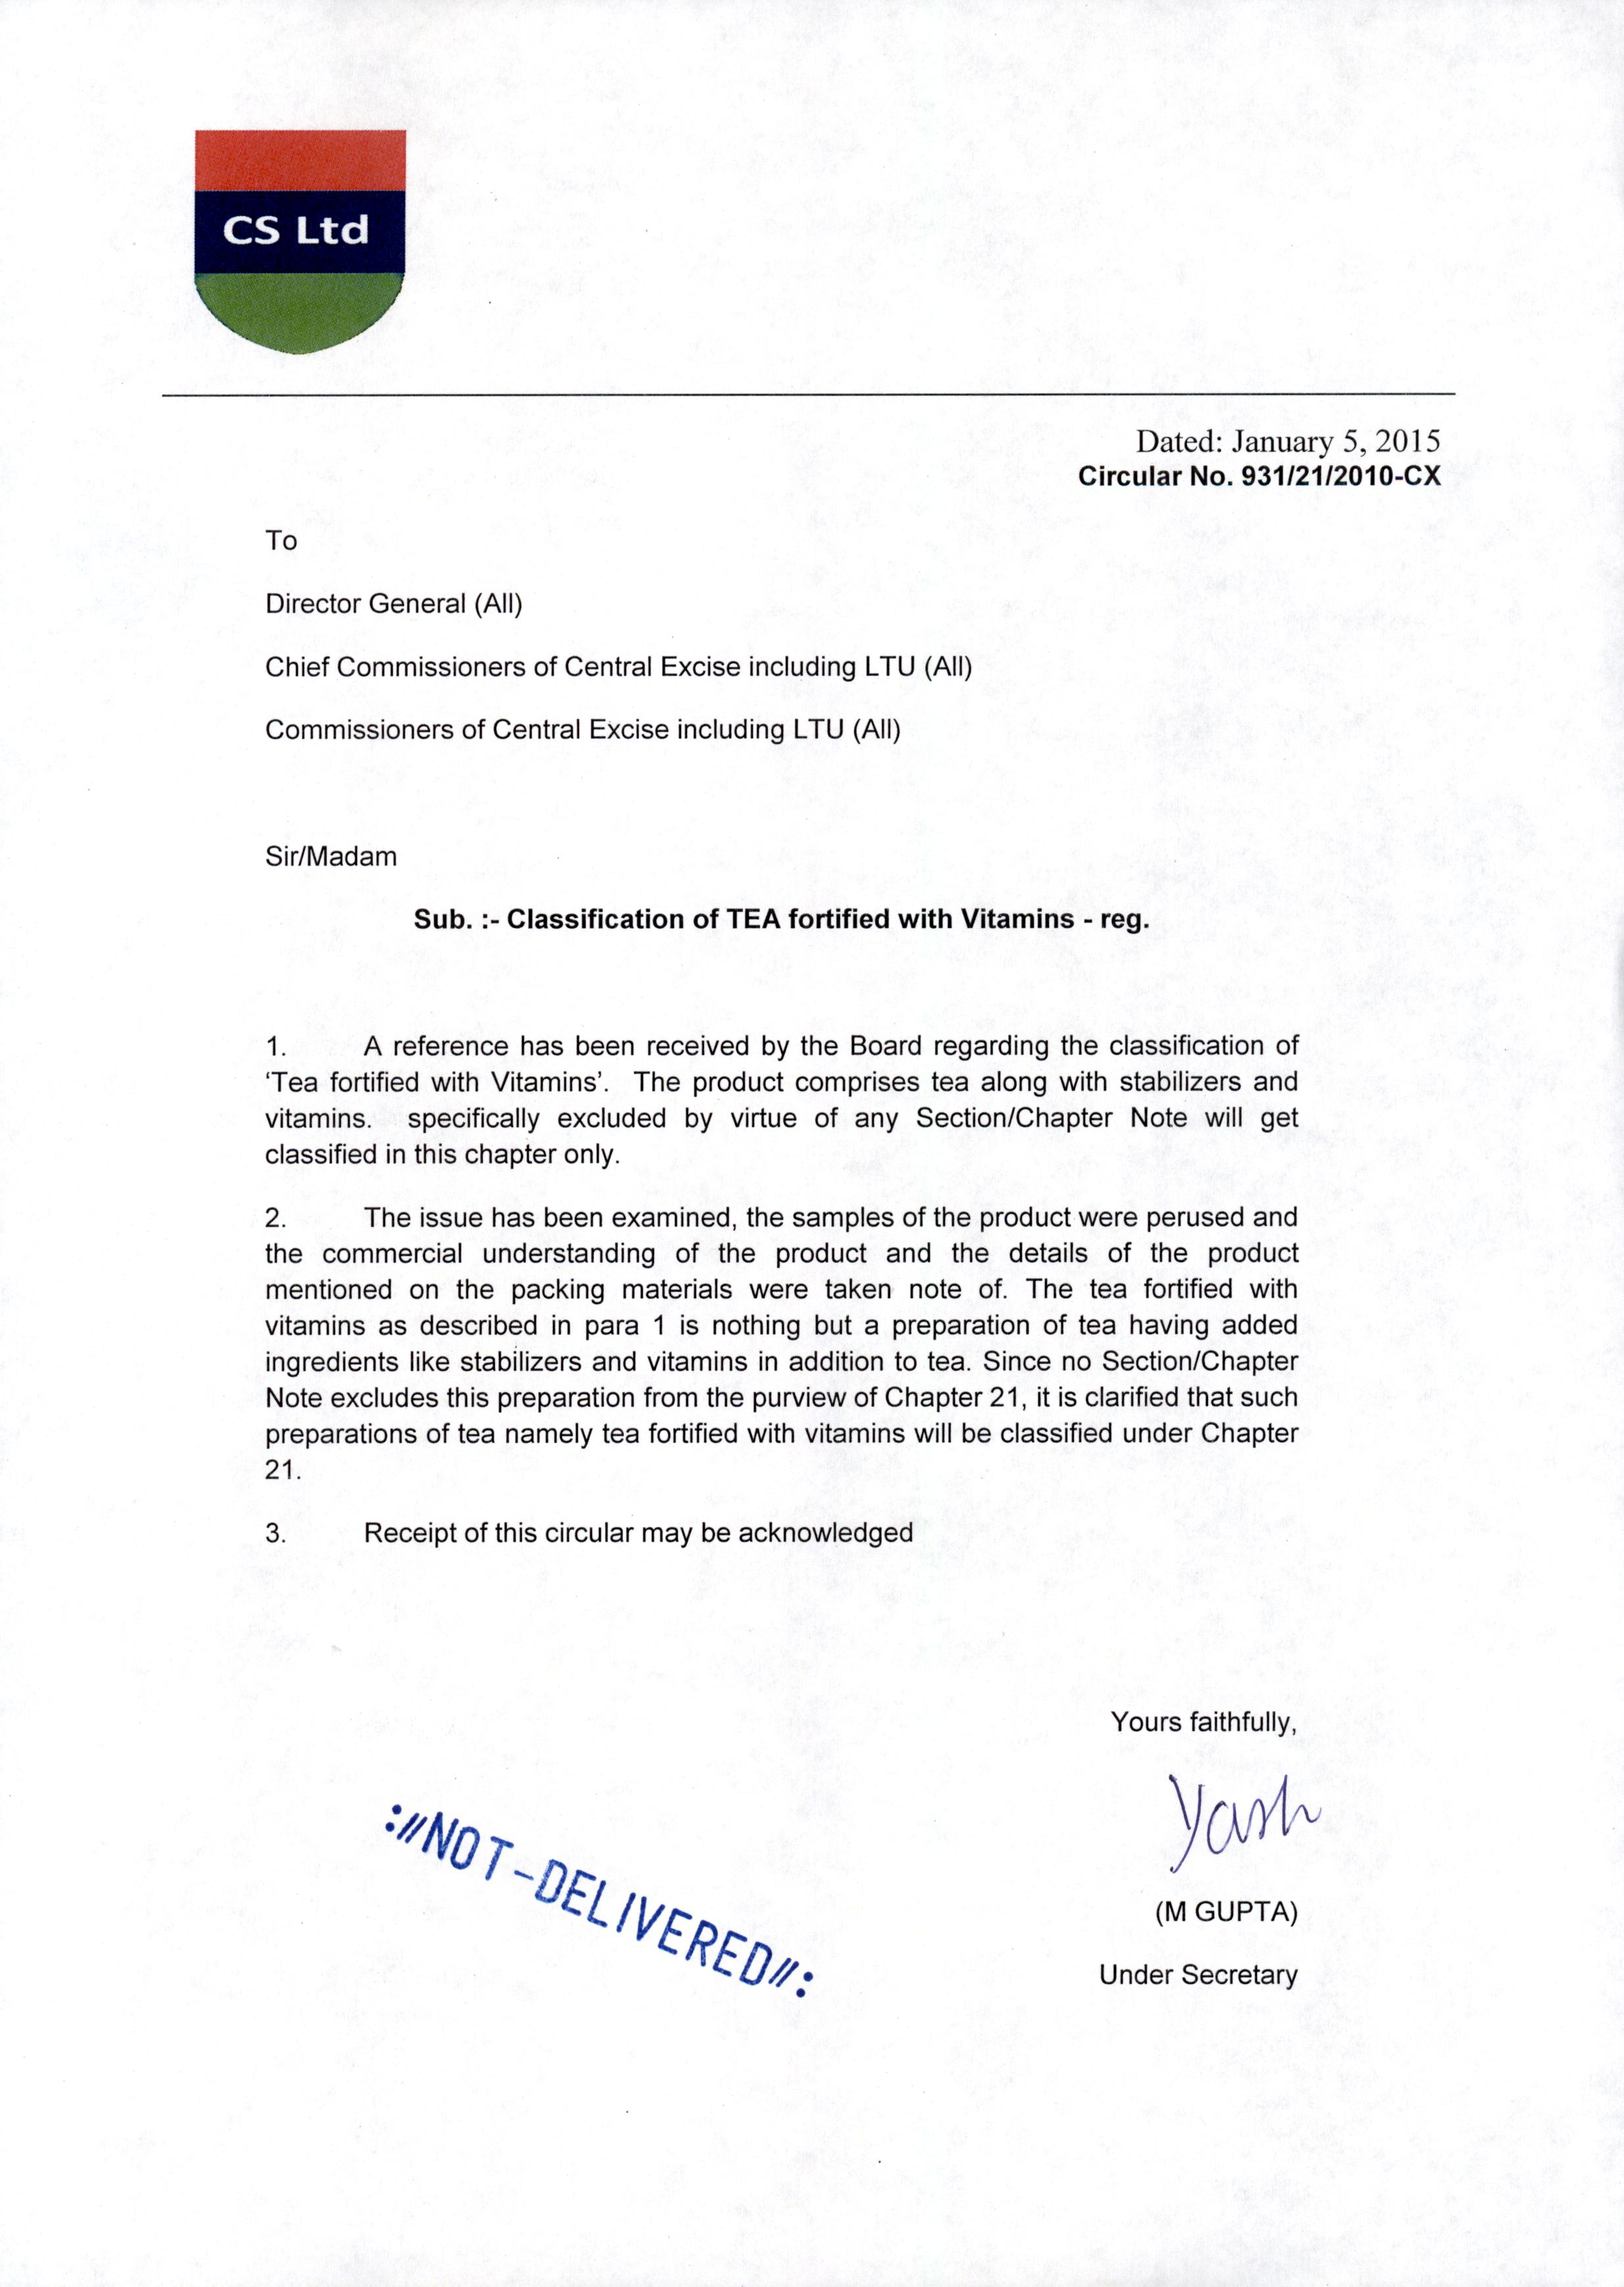Signature: (1160, 1757, 1329, 1881)
